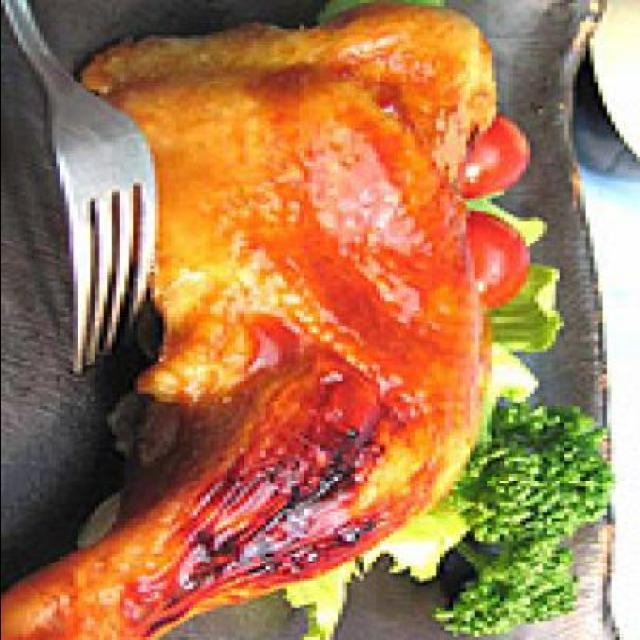Broccoli: (422, 406, 610, 637)
Chicken roast: (34, 25, 491, 638)
Tomato: (457, 130, 529, 202), (469, 221, 529, 307)
